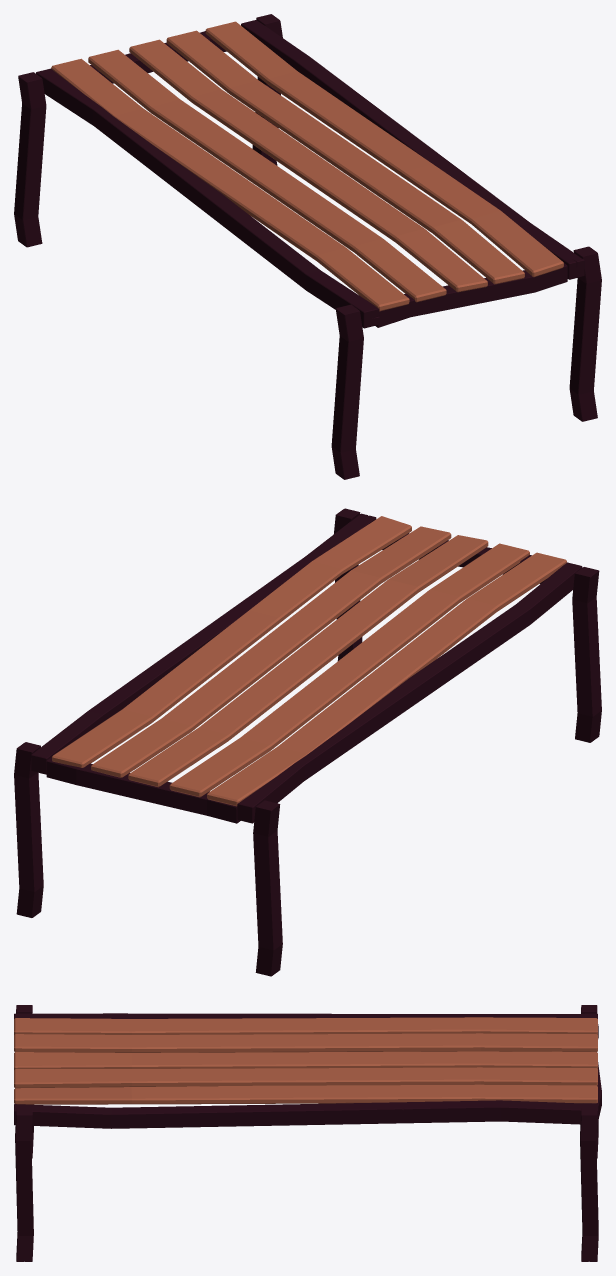
The model's file is prison bed1.fbx.
3 renders of one model, top to bottom at view 1: azimuth 30°, elevation 25°; view 2: azimuth 150°, elevation 25°; view 3: azimuth 270°, elevation 25°, orthographic. The views are drawn at different scales.
Parts seen in each view (by area): view 1: prison bed1; view 2: prison bed1; view 3: prison bed1.
Part boxes in pixels (bbox=[...]): prison bed1: bbox=[14, 14, 601, 479]; prison bed1: bbox=[14, 508, 601, 976]; prison bed1: bbox=[14, 1005, 601, 1261].
Size of the model in its own units: 82.45 by 50.95 by 181.
